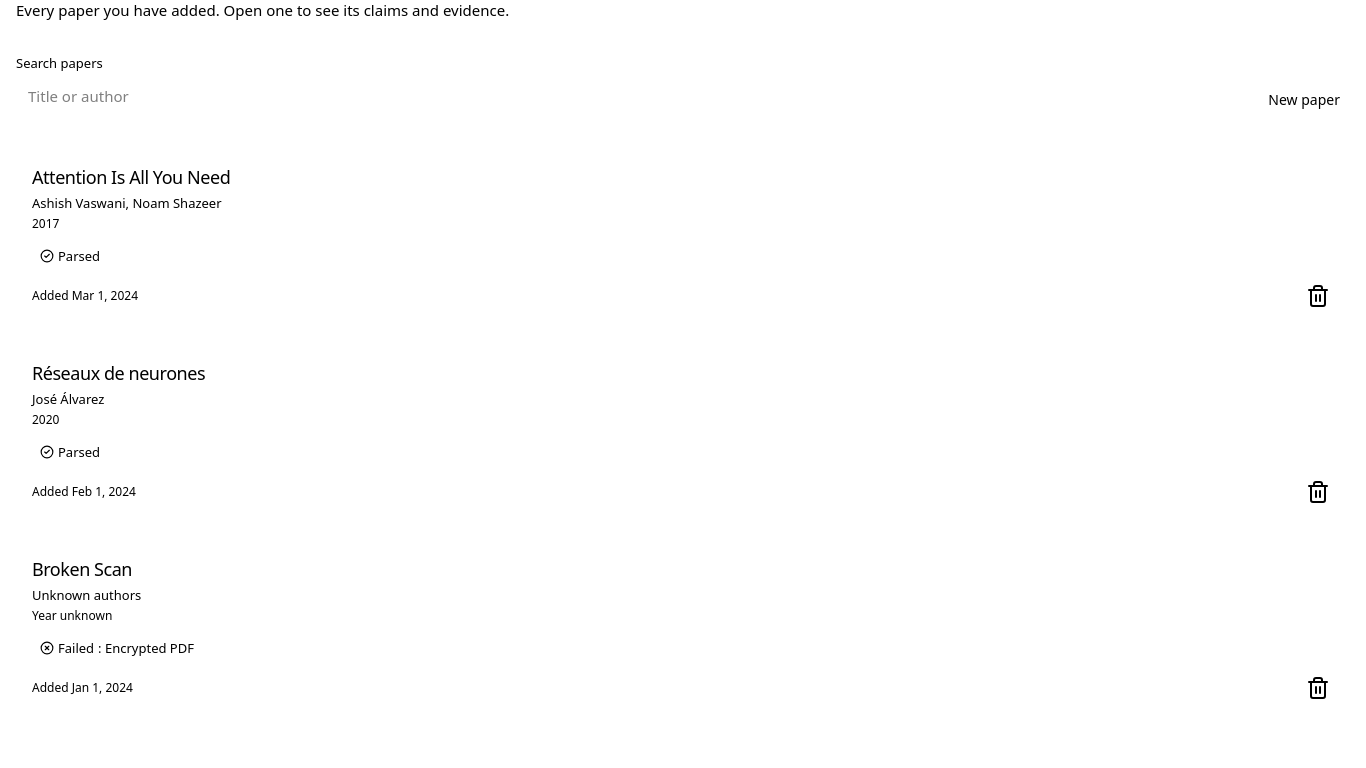
Test: LibraryPage › keeps the card and shows the error when delete fails
(page scrolled)
Expected: the link "Broken Scan" is shown, x1=32 y1=557 x2=132 y2=581
Click the button named "Delete Broken Scan" at {"x": 1318, "y": 688}, box x1=1302 y1=672 x2=1334 y2=704
(page scrolled)
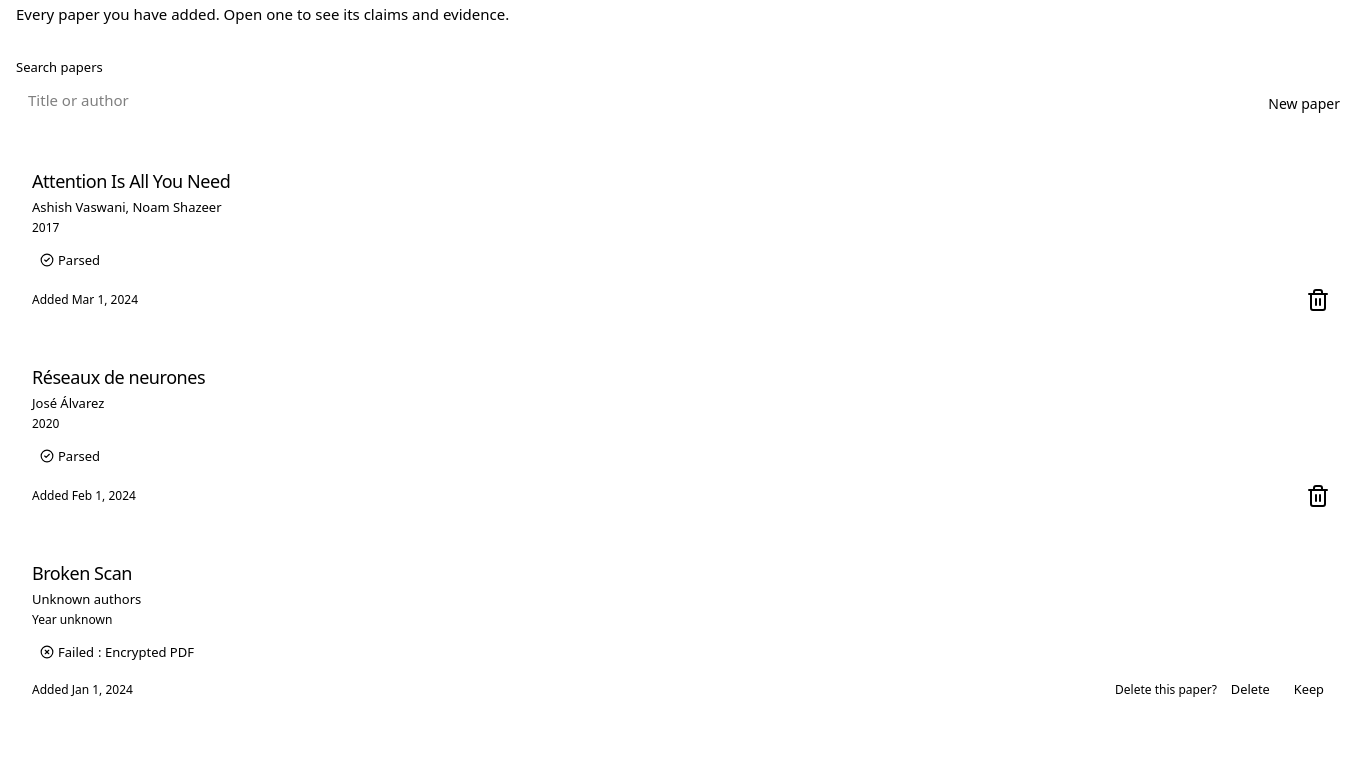
Click the button "Delete" at {"x": 1250, "y": 690}, box x1=1221 y1=676 x2=1280 y2=704
(page scrolled)
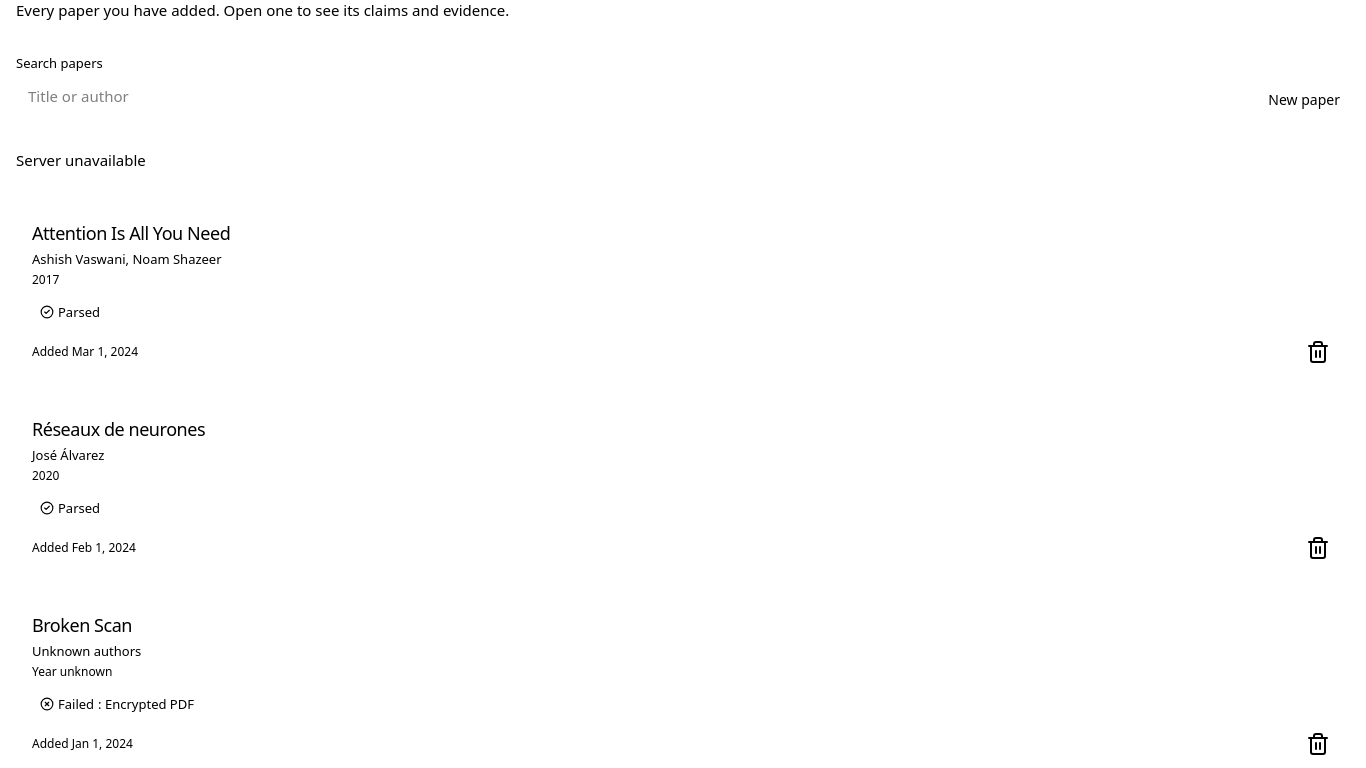
Expected: the link "Broken Scan" is shown, x1=32 y1=613 x2=132 y2=637
Expected: the message "Server unavailable" is shown, x1=16 y1=150 x2=146 y2=170
